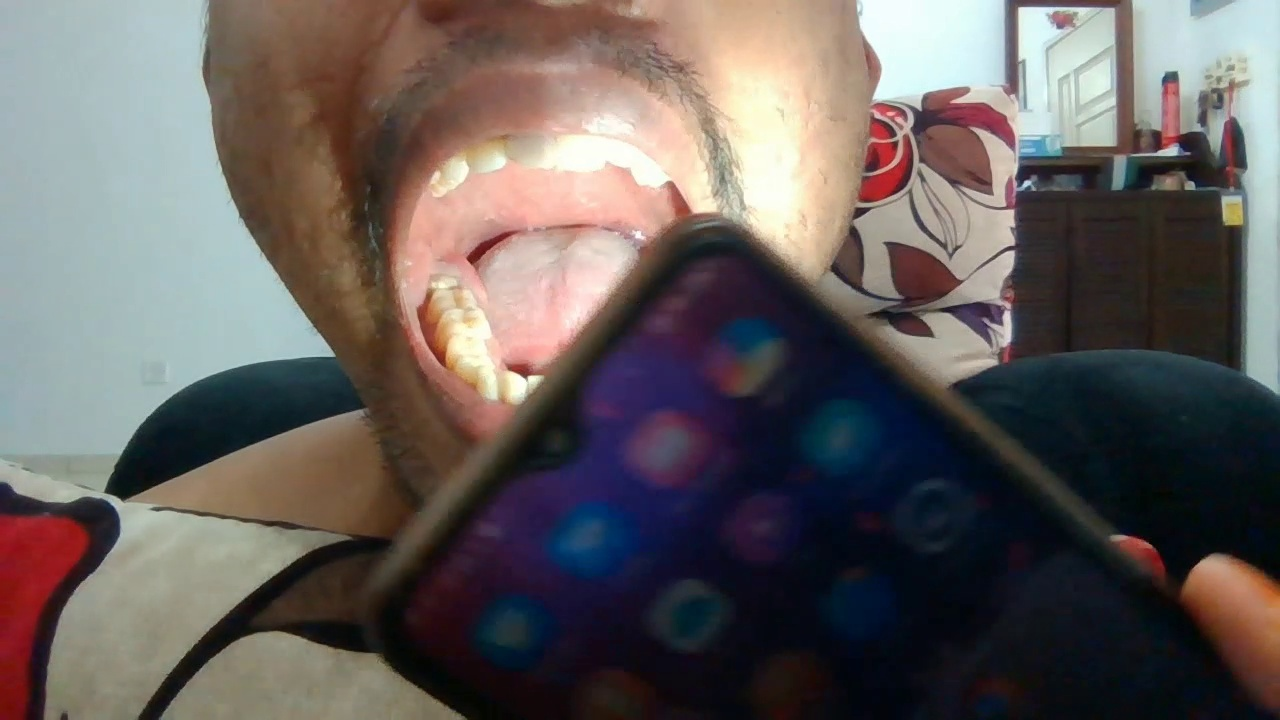1st Molar: (435, 307, 492, 338)
1st Premolar: (454, 355, 491, 379)
2nd Molar: (429, 287, 480, 310)
2nd Premolar: (444, 335, 488, 359)
3rd Molar: (428, 271, 459, 287)
Canine: (430, 156, 469, 198), (632, 154, 671, 191), (476, 365, 498, 399)
Central Incisor: (553, 132, 609, 172), (506, 136, 552, 169)
Lateral Incisor: (467, 144, 505, 175), (498, 371, 528, 407), (610, 139, 638, 170)
